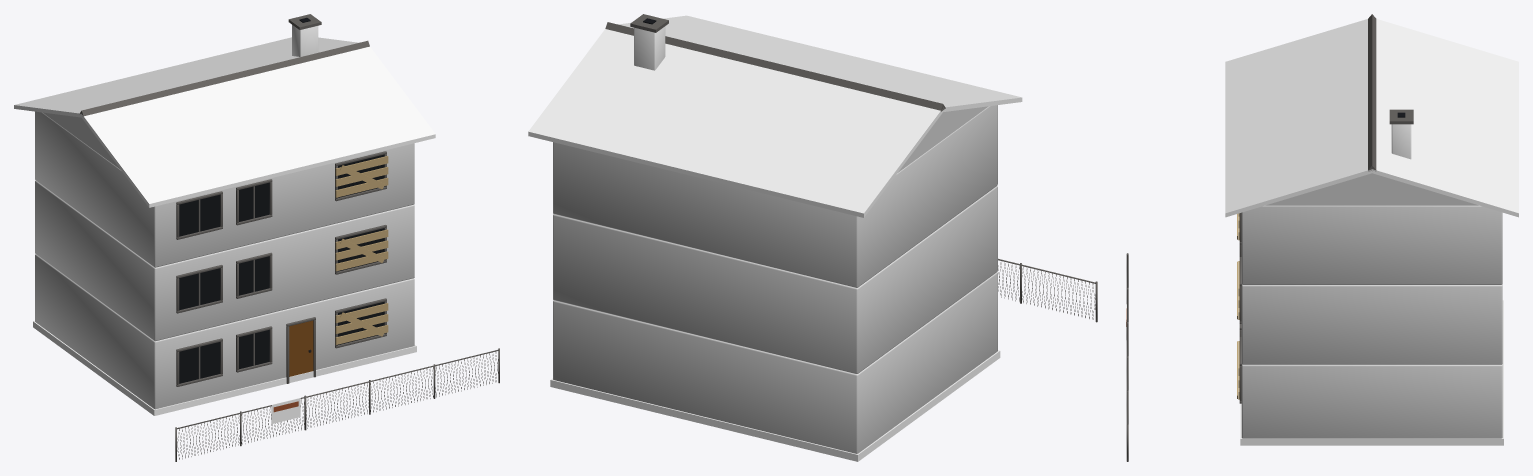
File: bld_ranch_plain_3s.glb
3 views of the same model, side by side, from view 1: azimuth 30°, elevation 25°; view 2: azimuth 150°, elevation 25°; view 3: azimuth 270°, elevation 25° (orthographic). The views are drawn at different scales.
Parts seen in each view (by area): view 1: rp_roof_front, rp_walls_s2, rp_walls_s3, rp_walls, rp_roof_back, rp_footing, rp_roof_cap, rp_win0, rp_win0_s2, rp_win0_s3, rp_door, rp_win1_s2 (+6 smaller); view 2: rp_roof_back, rp_walls_s2, rp_walls, rp_walls_s3, rp_roof_front, rp_footing, rp_roof_cap, rp_roof_gable, rp_chim; view 3: rp_roof_front, rp_roof_back, rp_walls_s2, rp_walls_s3, rp_walls, rp_roof_gable, rp_footing, rp_roof_cap, rp_chim.
Boxes of the visible parts, x1=… form: rp_roof_front: x1=81, y1=46, x2=435, y2=207; rp_walls_s2: x1=35, y1=180, x2=414, y2=341; rp_walls_s3: x1=35, y1=111, x2=414, y2=267; rp_walls: x1=35, y1=254, x2=414, y2=409; rp_roof_back: x1=14, y1=37, x2=358, y2=117; rp_footing: x1=33, y1=321, x2=416, y2=415; rp_roof_cap: x1=80, y1=40, x2=369, y2=116; rp_win0: x1=179, y1=342, x2=220, y2=383; rp_win0_s2: x1=179, y1=268, x2=220, y2=310; rp_win0_s3: x1=179, y1=195, x2=220, y2=236; rp_door: x1=289, y1=320, x2=313, y2=376; rp_win1_s2: x1=239, y1=256, x2=269, y2=295; rp_roof_back: x1=528, y1=29, x2=943, y2=217; rp_walls_s2: x1=553, y1=186, x2=997, y2=373; rp_walls: x1=553, y1=272, x2=997, y2=453; rp_walls_s3: x1=553, y1=105, x2=997, y2=287; rp_roof_front: x1=618, y1=15, x2=1022, y2=111; rp_footing: x1=550, y1=350, x2=1000, y2=461; rp_roof_cap: x1=605, y1=22, x2=945, y2=111; rp_roof_gable: x1=898, y1=106, x2=988, y2=172; rp_chim: x1=634, y1=26, x2=665, y2=70; rp_roof_front: x1=1225, y1=19, x2=1372, y2=217; rp_roof_back: x1=1372, y1=19, x2=1518, y2=217; rp_walls_s2: x1=1241, y1=284, x2=1502, y2=364; rp_walls_s3: x1=1241, y1=205, x2=1502, y2=284; rp_walls: x1=1241, y1=364, x2=1502, y2=438; rp_roof_gable: x1=1265, y1=173, x2=1478, y2=205; rp_footing: x1=1240, y1=300, x2=1503, y2=445; rp_roof_cap: x1=1368, y1=14, x2=1376, y2=171; rp_chim: x1=1391, y1=124, x2=1411, y2=159.
Bounding box in the file's own units: 12.46 × 10.53 × 12.05.
